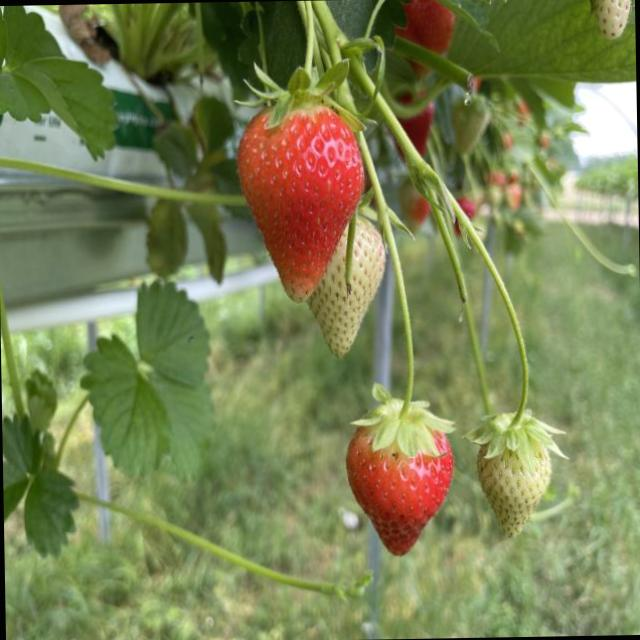stem: (351, 190, 450, 456), (471, 259, 564, 469), (241, 0, 362, 132)
strawberryNR: (313, 217, 383, 354), (476, 446, 548, 535)
strawberryR: (237, 108, 362, 294), (347, 426, 452, 553)
